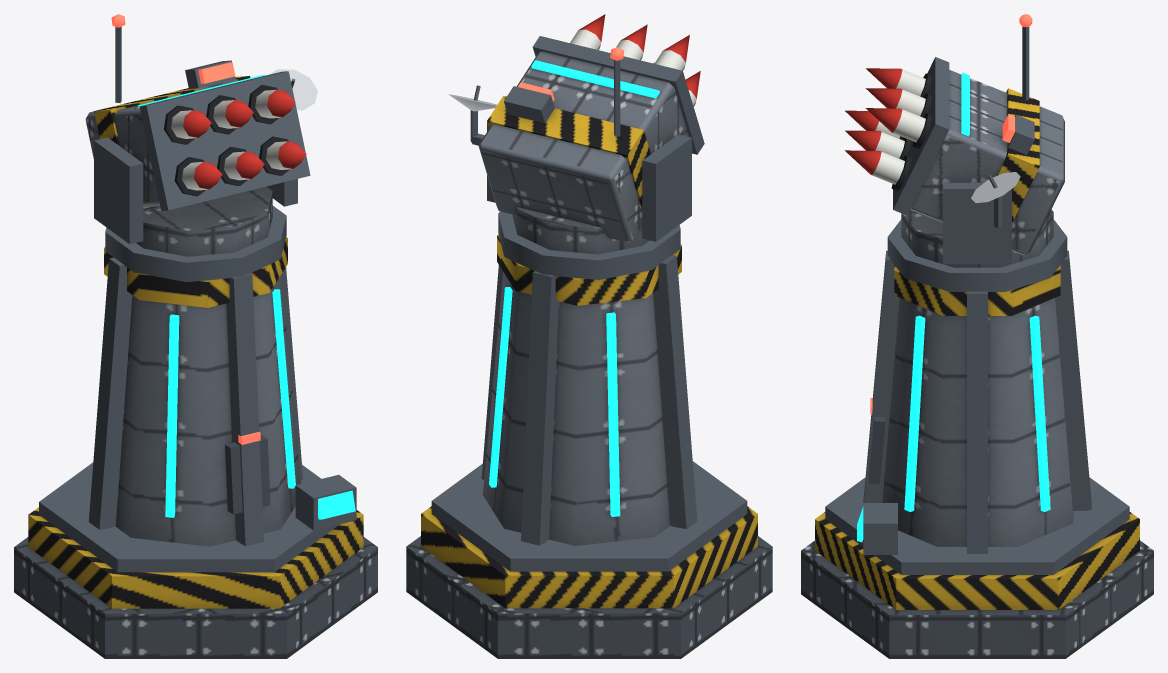
The model's file is tower_l7.glb.
3 renders of one model, left to right at view 1: azimuth 30°, elevation 25°; view 2: azimuth 150°, elevation 25°; view 3: azimuth 270°, elevation 25°, orthographic. The views are drawn at different scales.
Parts seen in each view (by area): view 1: tower_l7; view 2: tower_l7; view 3: tower_l7.
Part boxes in pixels (box(x1,y1,x2,y2)): tower_l7: box(14, 14, 377, 658); tower_l7: box(406, 14, 772, 658); tower_l7: box(801, 14, 1153, 658).
Bounding box in the file's own units: 0.4417 × 0.886 × 0.51.
3 materials, 1 textured.
